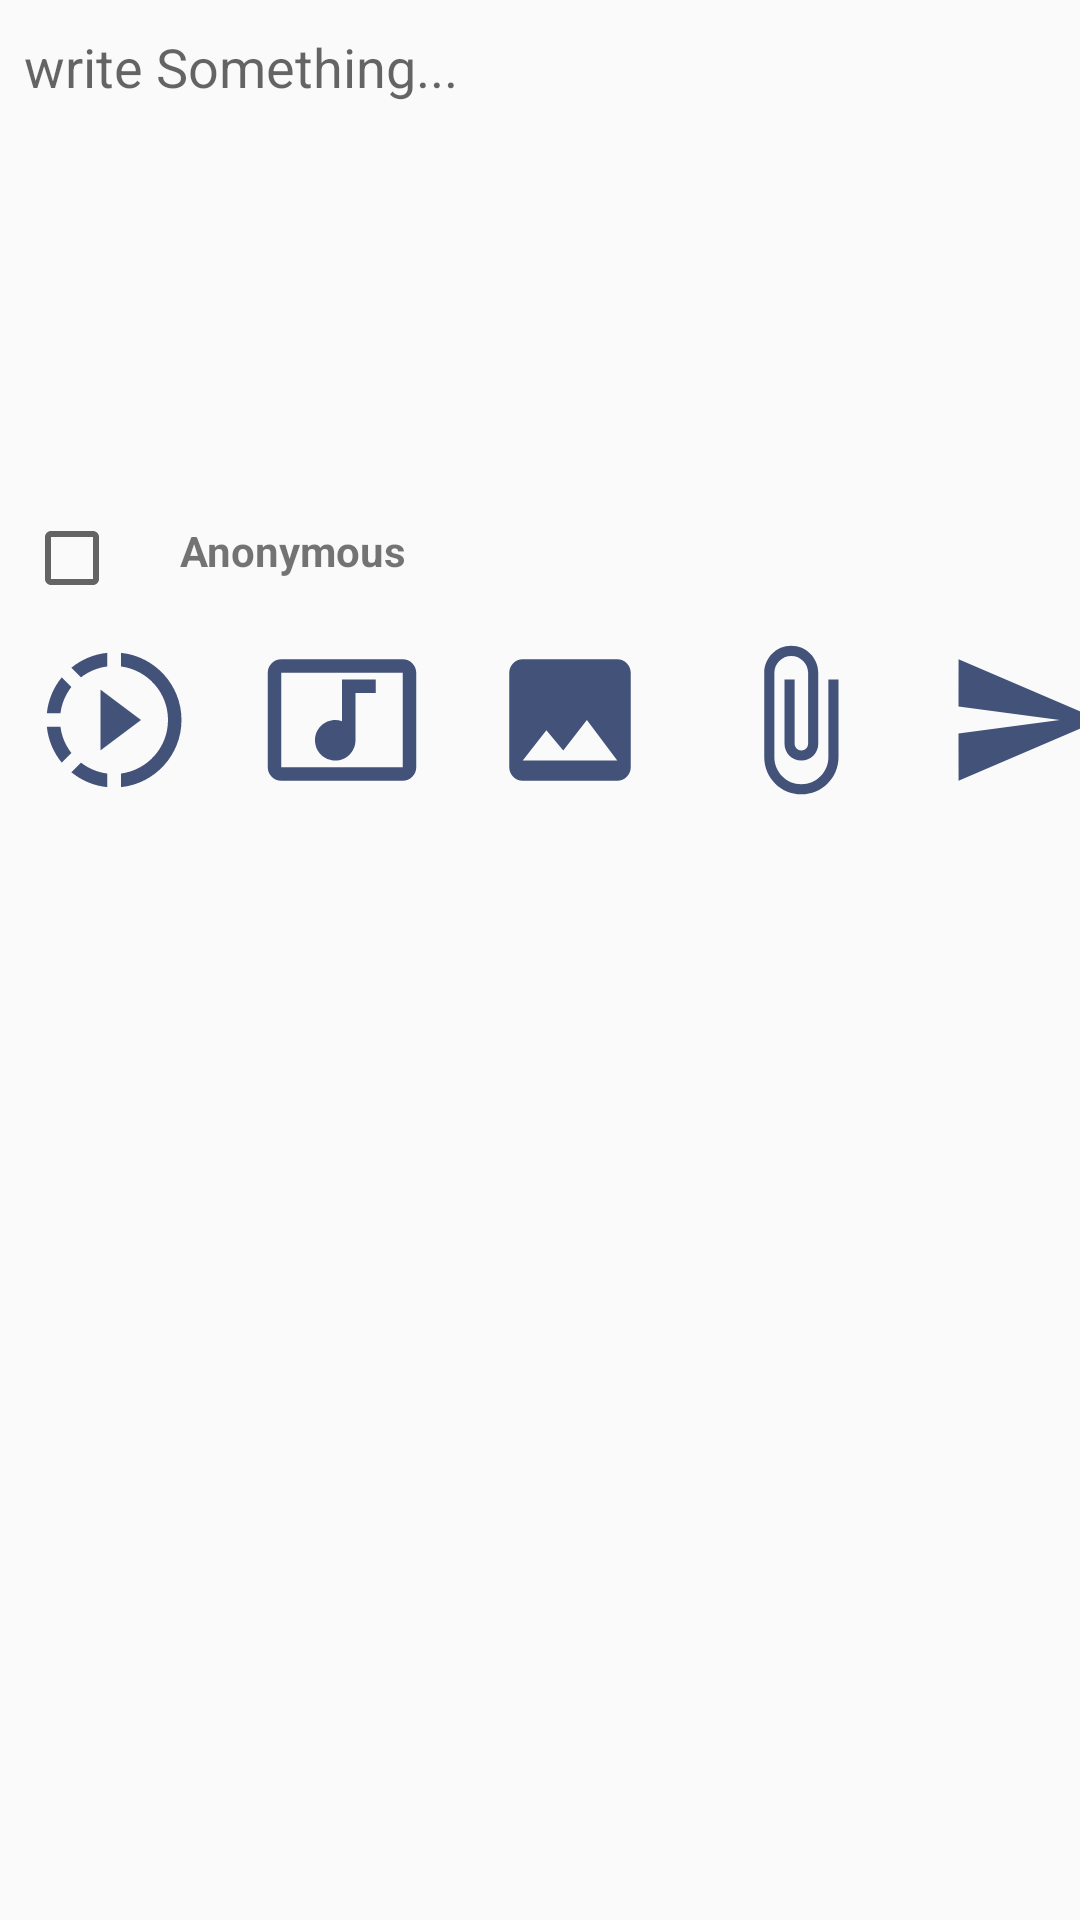

Icons on this 1080x1920 Android screen, each with the point to tap as point (x, y):
attach file: point (801, 720)
music video: point (342, 720)
slow motion video: point (114, 720)
